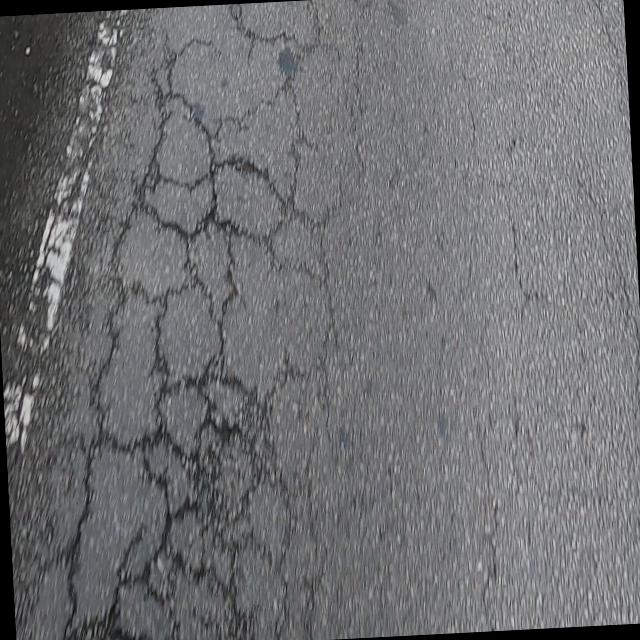Retak-Buaya: (58, 0, 340, 640)
